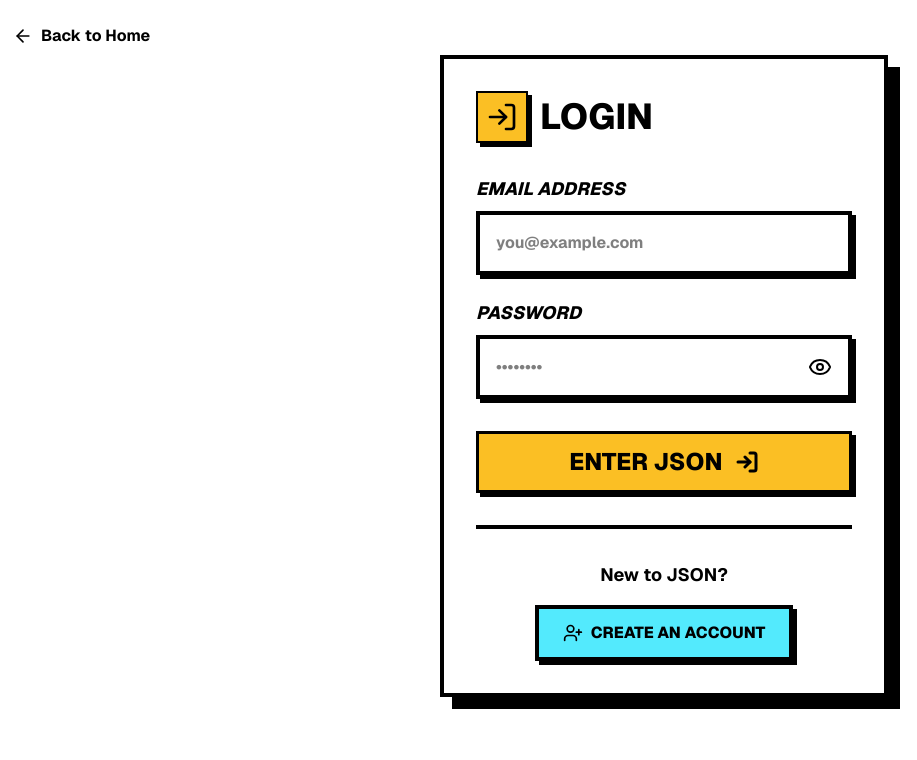
Test: Authentication Pages › LoginPage › handles login failure
Step 1. Type "test@example.com" into the field with placeholder "you@example.com" → (664, 243), box 476,211 -> 852,275
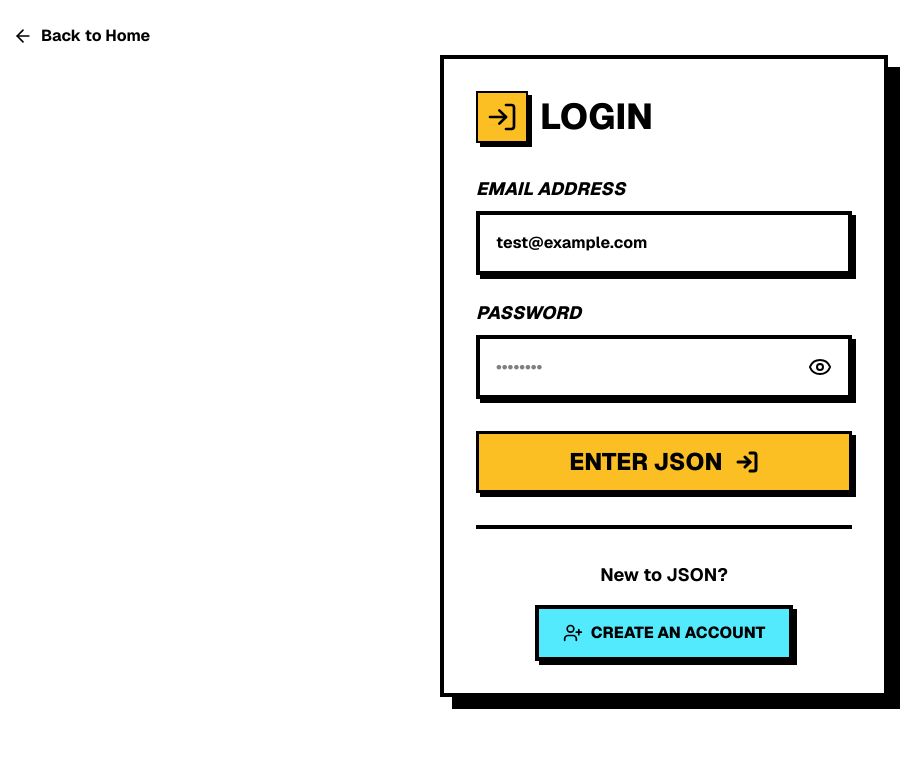
Step 2. Type "wrongpassword" into the password field with placeholder "••••••••" → (664, 367), box 476,335 -> 852,399
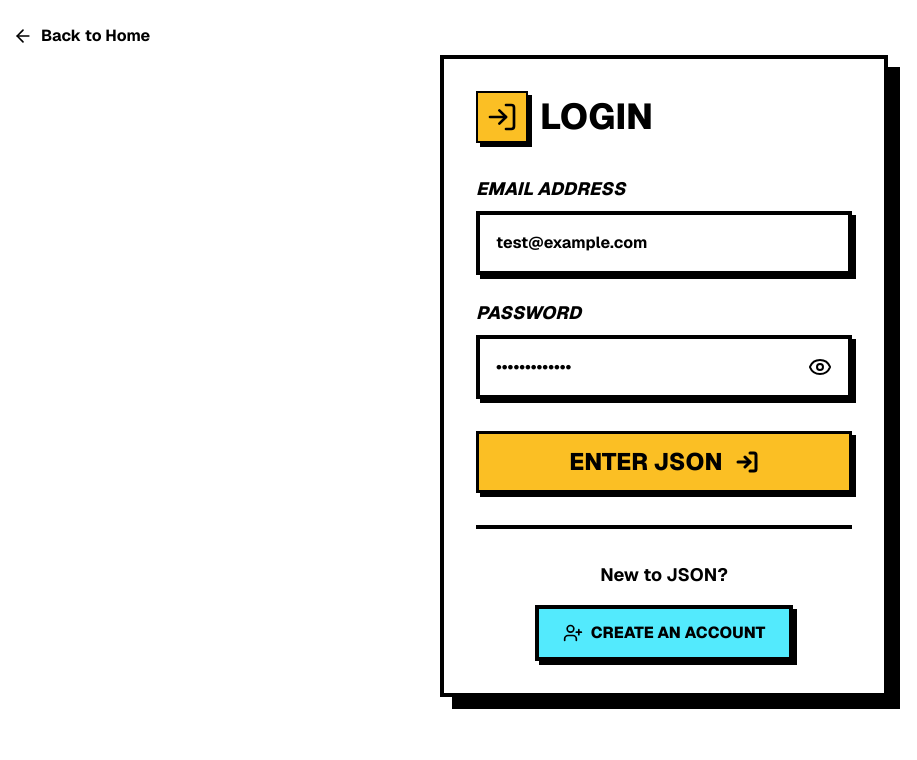
Step 3. Click the button "Enter JSON" → click(664, 462), box 476,431 -> 852,493
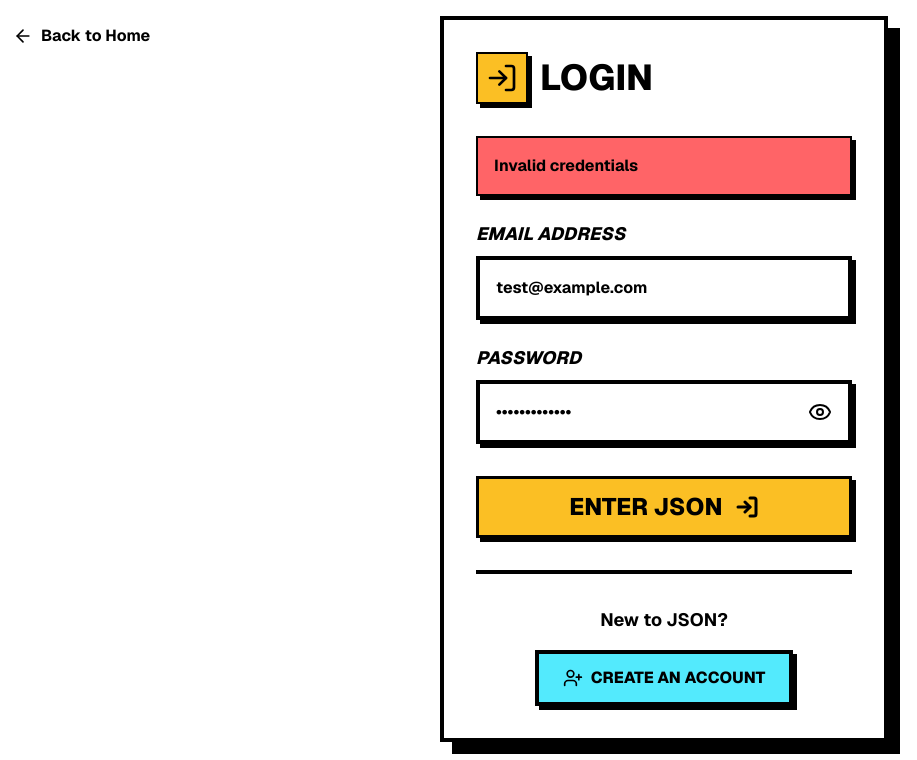
Expected: the text "Invalid credentials" is shown, 476,136 -> 852,196
